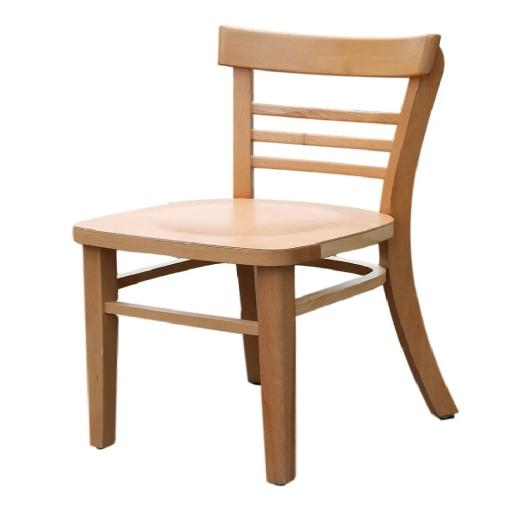chair: (48, 20, 460, 490)
